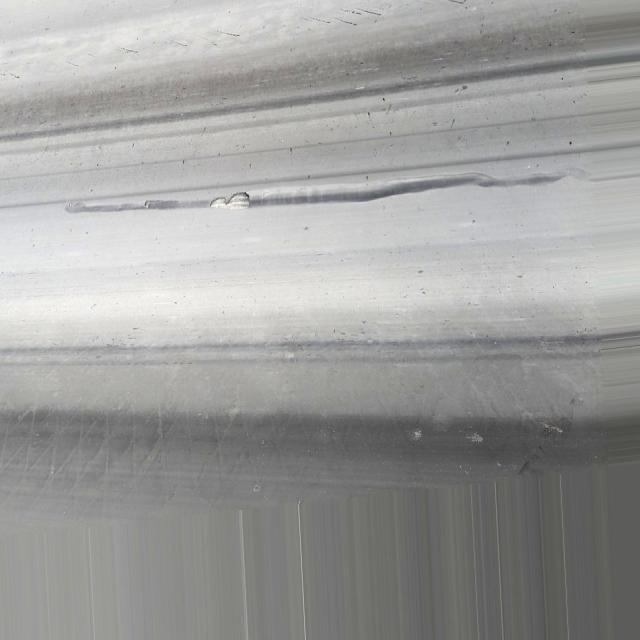Tear: (209, 188, 251, 213)
impact damage: (61, 164, 569, 216)
